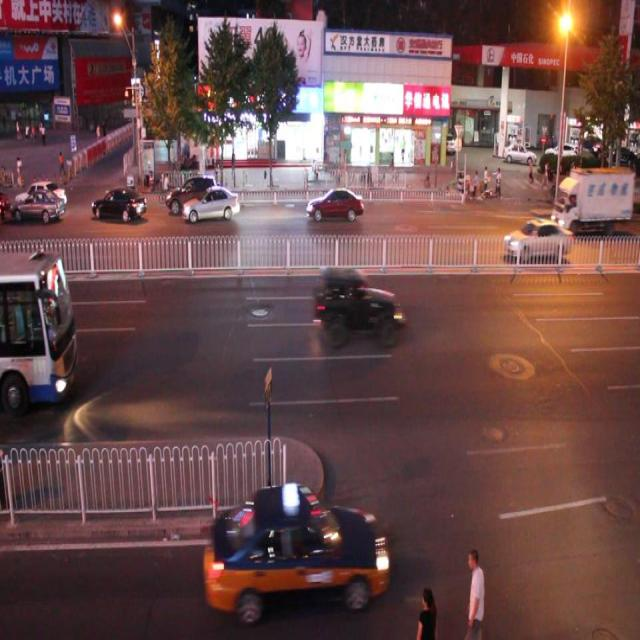bus: (553, 163, 632, 230)
car: (205, 481, 388, 608), (313, 263, 399, 345), (500, 216, 572, 260), (167, 170, 221, 216), (88, 184, 148, 223), (10, 186, 66, 226), (307, 186, 363, 224), (183, 185, 240, 222), (15, 180, 67, 208)
van: (1, 248, 76, 404)
